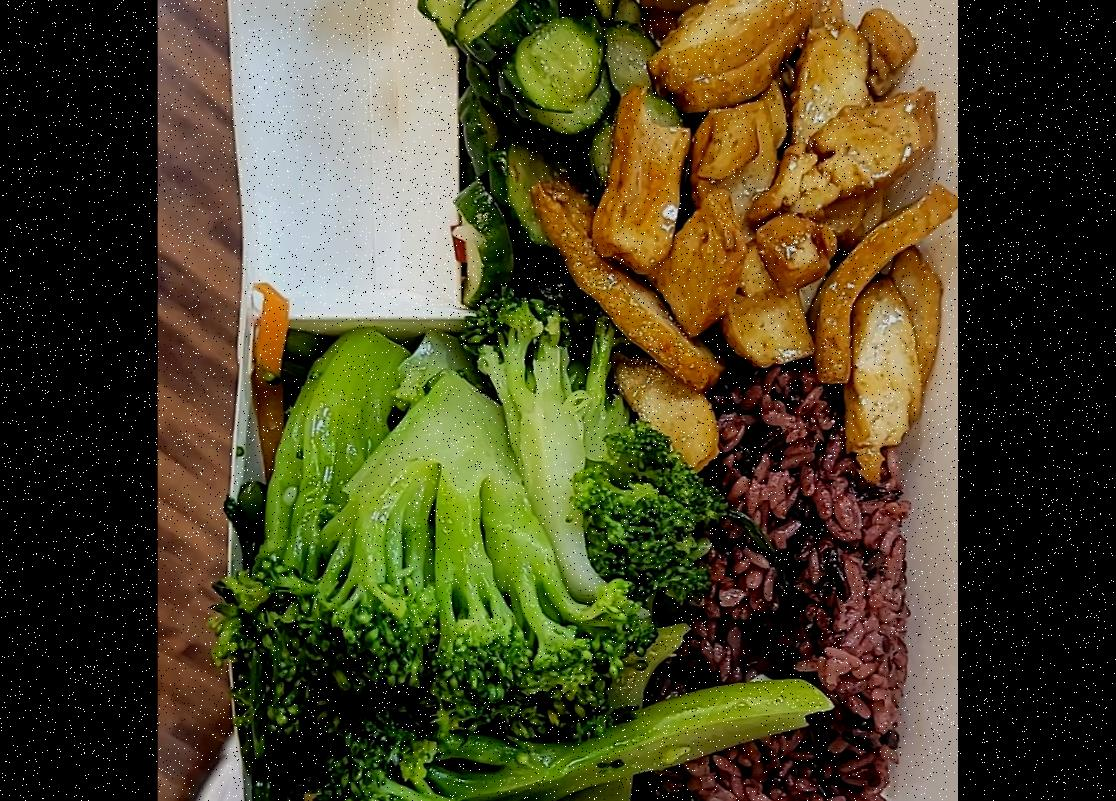box: (213, 0, 910, 801)
purple rice: (639, 345, 913, 801)
side dish: (244, 317, 833, 801), (547, 0, 956, 463), (427, 0, 656, 306)
